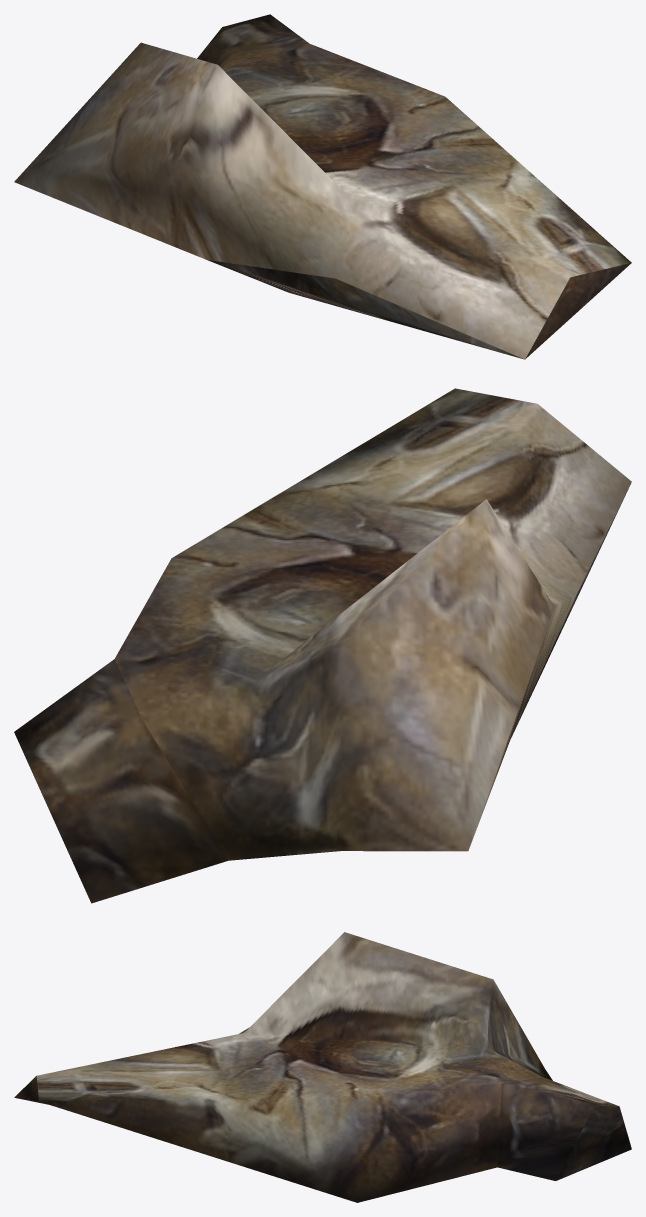
File: D_baigu003.fbx
3 renders of one model, top to bottom at view 1: azimuth 30°, elevation 25°; view 2: azimuth 150°, elevation 25°; view 3: azimuth 270°, elevation 25°, orthographic. The views are drawn at different scales.
Visible parts, largest first — view 1: D_baigu003; view 2: D_baigu003; view 3: D_baigu003.
Part boxes in pixels (bbox=[...]): D_baigu003: bbox=[14, 14, 631, 359]; D_baigu003: bbox=[14, 388, 631, 903]; D_baigu003: bbox=[14, 932, 631, 1202].
Size of the model in its own units: 150 by 99.15 by 271.
